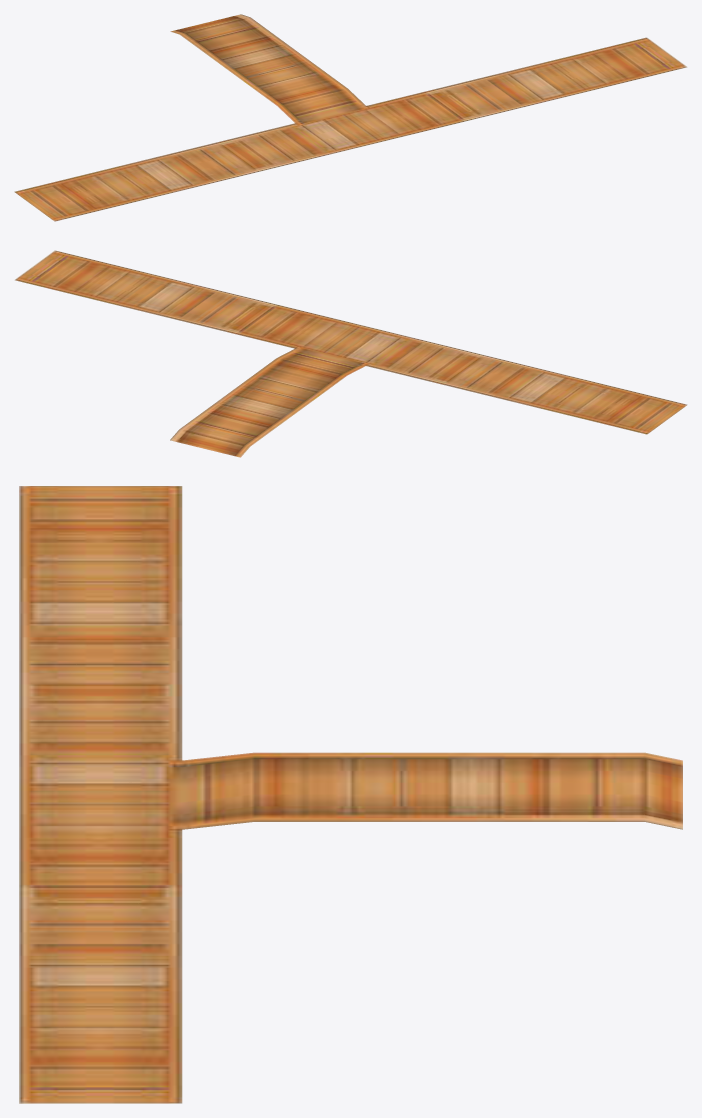
3 views of the same model, one above another, from view 1: azimuth 30°, elevation 25°; view 2: azimuth 150°, elevation 25°; view 3: azimuth 270°, elevation 25° (orthographic). The views are drawn at different scales.
Visible parts, largest first — view 1: 5eb8da85bc6f9f174c5c46b7; view 2: 5eb8da85bc6f9f174c5c46b7; view 3: 5eb8da85bc6f9f174c5c46b7.
Boxes of the visible parts, x1,y1,x2,y2 form: 5eb8da85bc6f9f174c5c46b7: [14, 14, 687, 221]; 5eb8da85bc6f9f174c5c46b7: [14, 250, 687, 457]; 5eb8da85bc6f9f174c5c46b7: [19, 486, 682, 1103].
Size of the model in its own units: 20.95 by 0.125 by 9.52.
1 material, 1 textured.
